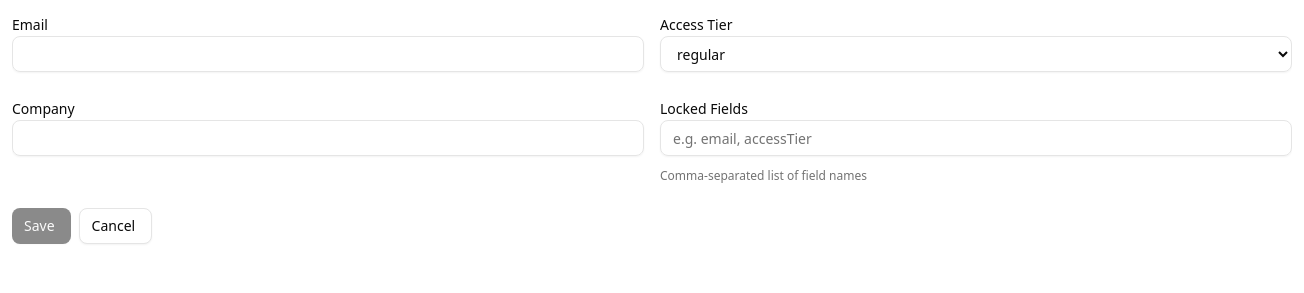
Test case: WhitelistForm › email validation › shows a validation error for an invalid email address
Type "not-an-email" into the field labelled "Email" at (328, 54), box left=12, top=36, right=644, bottom=72
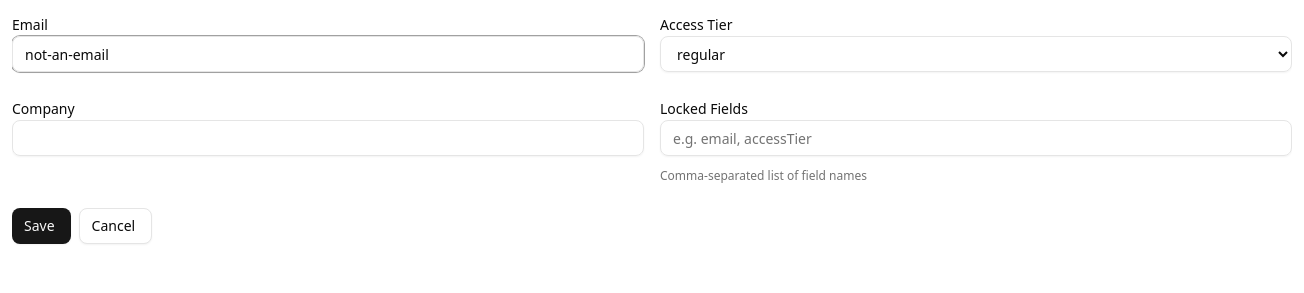
Press Tab
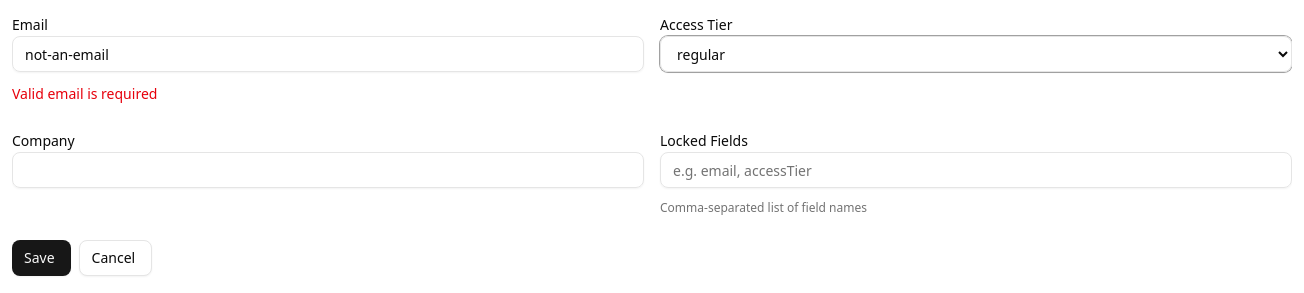
Result: the text "Valid email is required" is shown at left=12, top=84, right=157, bottom=103
